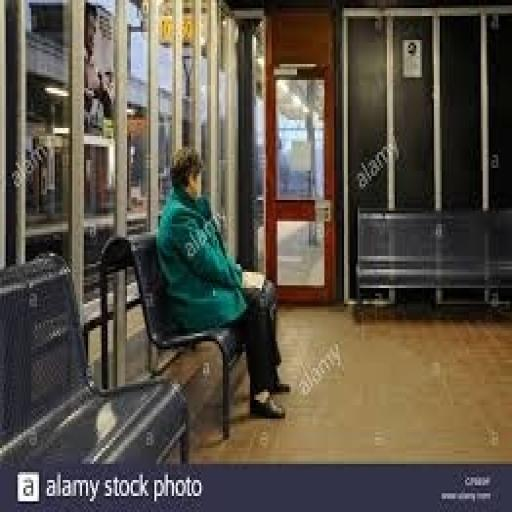sitting: (153, 142, 293, 422)
